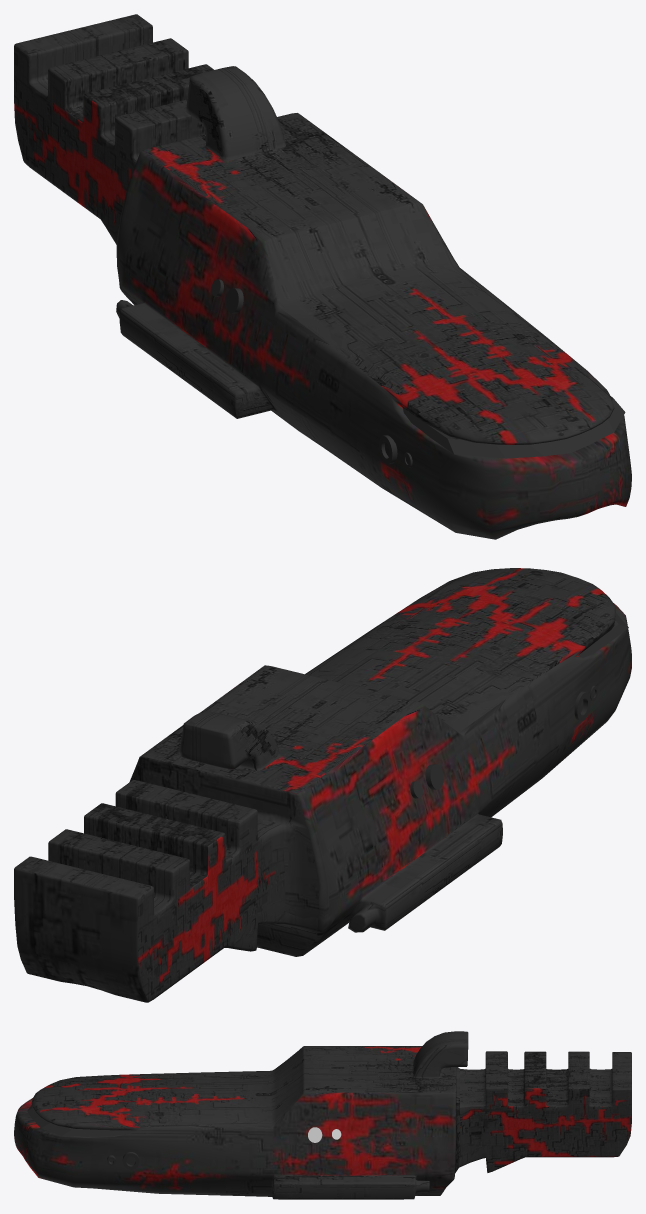
The model's file is SHIP_FINAL.FBX.
3 views of the same model, one above another, from view 1: azimuth 30°, elevation 25°; view 2: azimuth 150°, elevation 25°; view 3: azimuth 270°, elevation 25° (orthographic). The views are drawn at different scales.
Visible parts, largest first — view 1: Box001, Object001; view 2: Box001; view 3: Box001, Object001.
Part boxes in pixels (x1=…): Box001: x1=14, y1=14, x2=631, y2=539; Object001: x1=403, y1=396, x2=625, y2=458; Box001: x1=14, y1=568, x2=631, y2=1002; Box001: x1=14, y1=1031, x2=631, y2=1199; Object001: x1=27, y1=1105, x2=135, y2=1136.
Size of the model in its own units: 99.99 by 82.41 by 327.
2 materials, 1 textured.
